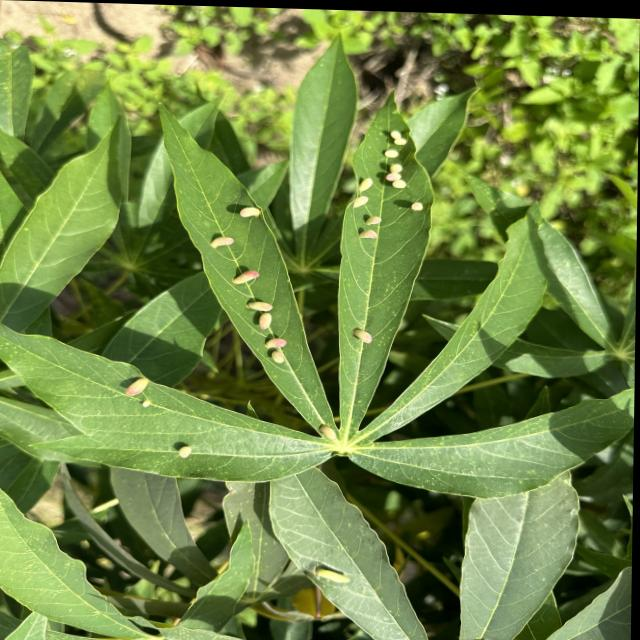Maleza: (495, 16, 640, 205)
Mosca: (345, 167, 383, 246), (289, 559, 356, 596), (383, 121, 415, 192), (118, 367, 156, 425), (241, 287, 282, 333), (258, 332, 294, 374), (222, 260, 280, 284), (204, 226, 242, 255), (236, 200, 272, 229), (319, 421, 351, 453), (346, 318, 377, 349), (405, 193, 435, 222), (170, 434, 199, 461)
